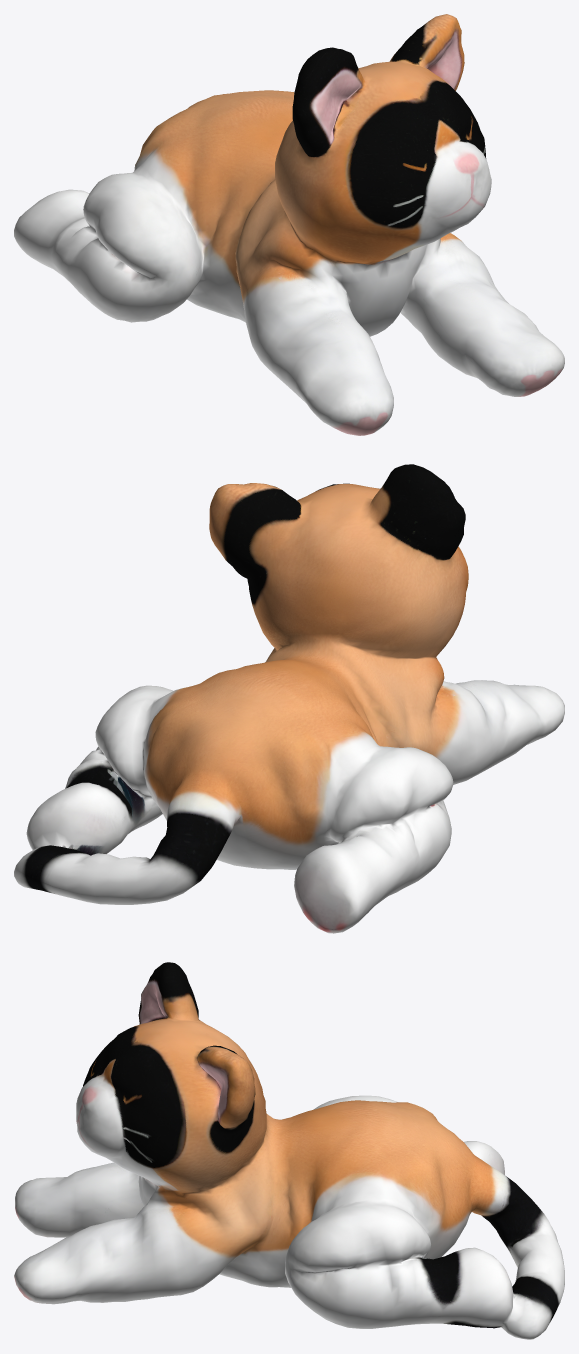
Rendered from callie.glb.
3 views of the same model, one above another, from view 1: azimuth 30°, elevation 25°; view 2: azimuth 150°, elevation 25°; view 3: azimuth 270°, elevation 25° (orthographic). The views are drawn at different scales.
Bounding box in the file's own units: 1.24 × 1.11 × 1.9.
Materials: 1 (1 with a texture image).
